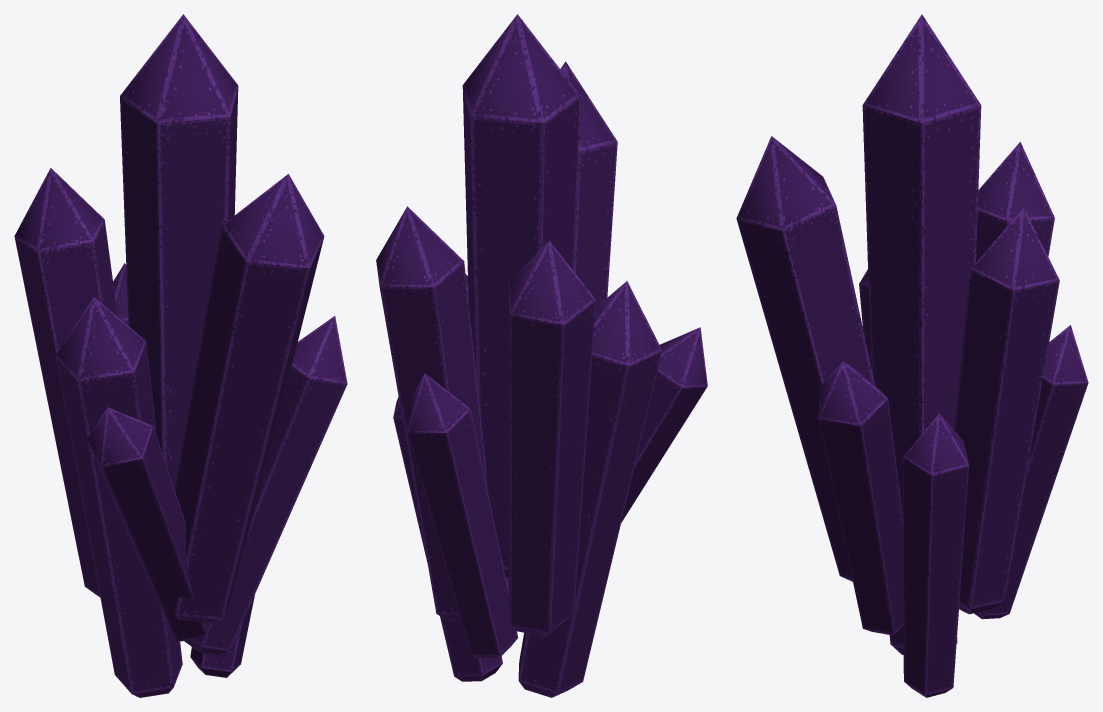
The model's file is crystalCluster_v01.fbx.
3 views of the same model, side by side, from view 1: azimuth 30°, elevation 25°; view 2: azimuth 150°, elevation 25°; view 3: azimuth 270°, elevation 25° (orthographic). The views are drawn at different scales.
Parts seen in each view (by area): view 1: crystal_p05, crystal_p08, crystal_p09, crystal_p02, crystal_p04, crystal_p10, crystal_p06, crystal_p03; view 2: crystal_p08, crystal_p02, crystal_p09, crystal_p07, crystal_p03, crystal_p05, crystal_p10, crystal_p06; view 3: crystal_p08, crystal_p07, crystal_p05, crystal_p04, crystal_p06, crystal_p03, crystal_p02, crystal_p09.
Boxes of the visible parts, x1,y1,x2,y2 form: crystal_p05: (173,174,324,623); crystal_p08: (120,14,238,488); crystal_p09: (55,297,182,697); crystal_p02: (14,168,117,597); crystal_p04: (184,316,347,655); crystal_p10: (87,407,206,641); crystal_p06: (190,595,254,677); crystal_p03: (113,263,128,325); crystal_p08: (462,14,580,577); crystal_p02: (508,240,596,636); crystal_p09: (518,281,662,697); crystal_p07: (376,206,487,619); crystal_p03: (406,373,518,658); crystal_p05: (560,61,617,307); crystal_p10: (621,327,707,522); crystal_p06: (393,397,502,681); crystal_p08: (862,14,981,516); crystal_p07: (954,208,1059,614); crystal_p05: (736,136,875,581); crystal_p04: (818,361,903,635); crystal_p06: (903,413,969,697); crystal_p03: (974,325,1088,619); crystal_p02: (976,141,1054,261); crystal_p09: (859,269,957,654).
Bounding box in the file's own units: 4.02 × 9.85 × 4.77.
